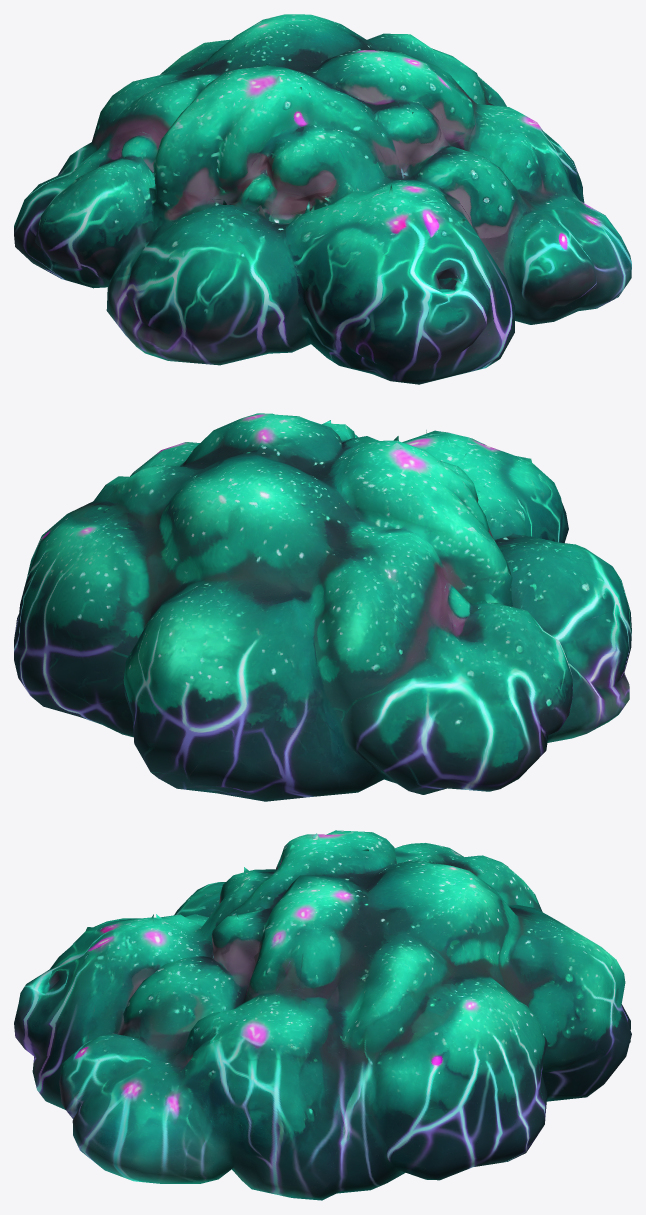
3 views of the same model, one above another, from view 1: azimuth 30°, elevation 25°; view 2: azimuth 150°, elevation 25°; view 3: azimuth 270°, elevation 25° (orthographic). The views are drawn at different scales.
Parts seen in each view (by area): view 1: Mesh_0; view 2: Mesh_0; view 3: Mesh_0.
Part boxes in pixels (x1,y1,x2,y2): Mesh_0: (14, 14, 631, 384); Mesh_0: (14, 413, 631, 801); Mesh_0: (14, 830, 631, 1200).
Bounding box in the file's own units: 1.81 × 0.7766 × 1.91.
Materials: 1 (1 with a texture image).
